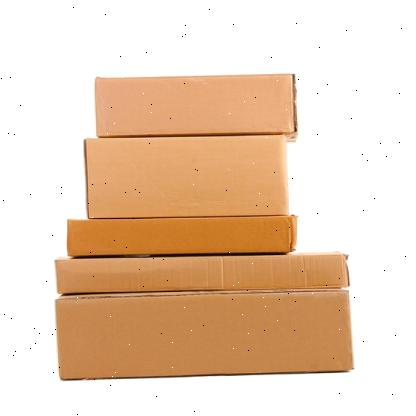box: (55, 291, 352, 380), (84, 135, 289, 219), (94, 74, 295, 138), (55, 254, 349, 296), (66, 216, 292, 258)
